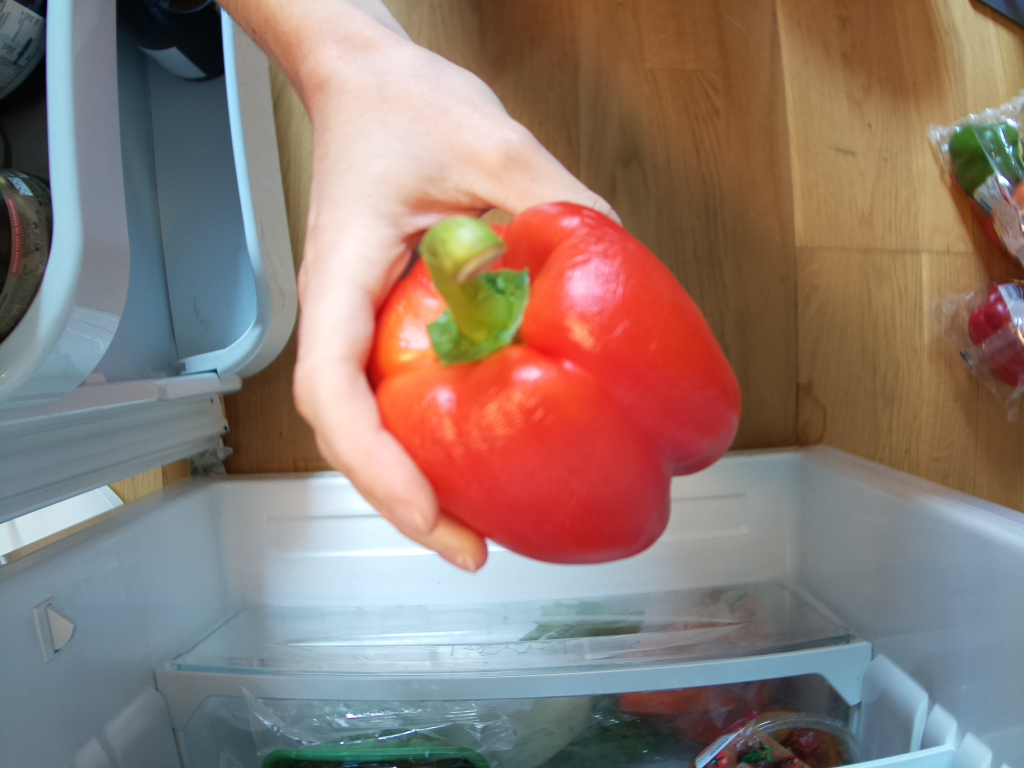pepper-bad: (364, 200, 748, 570)
